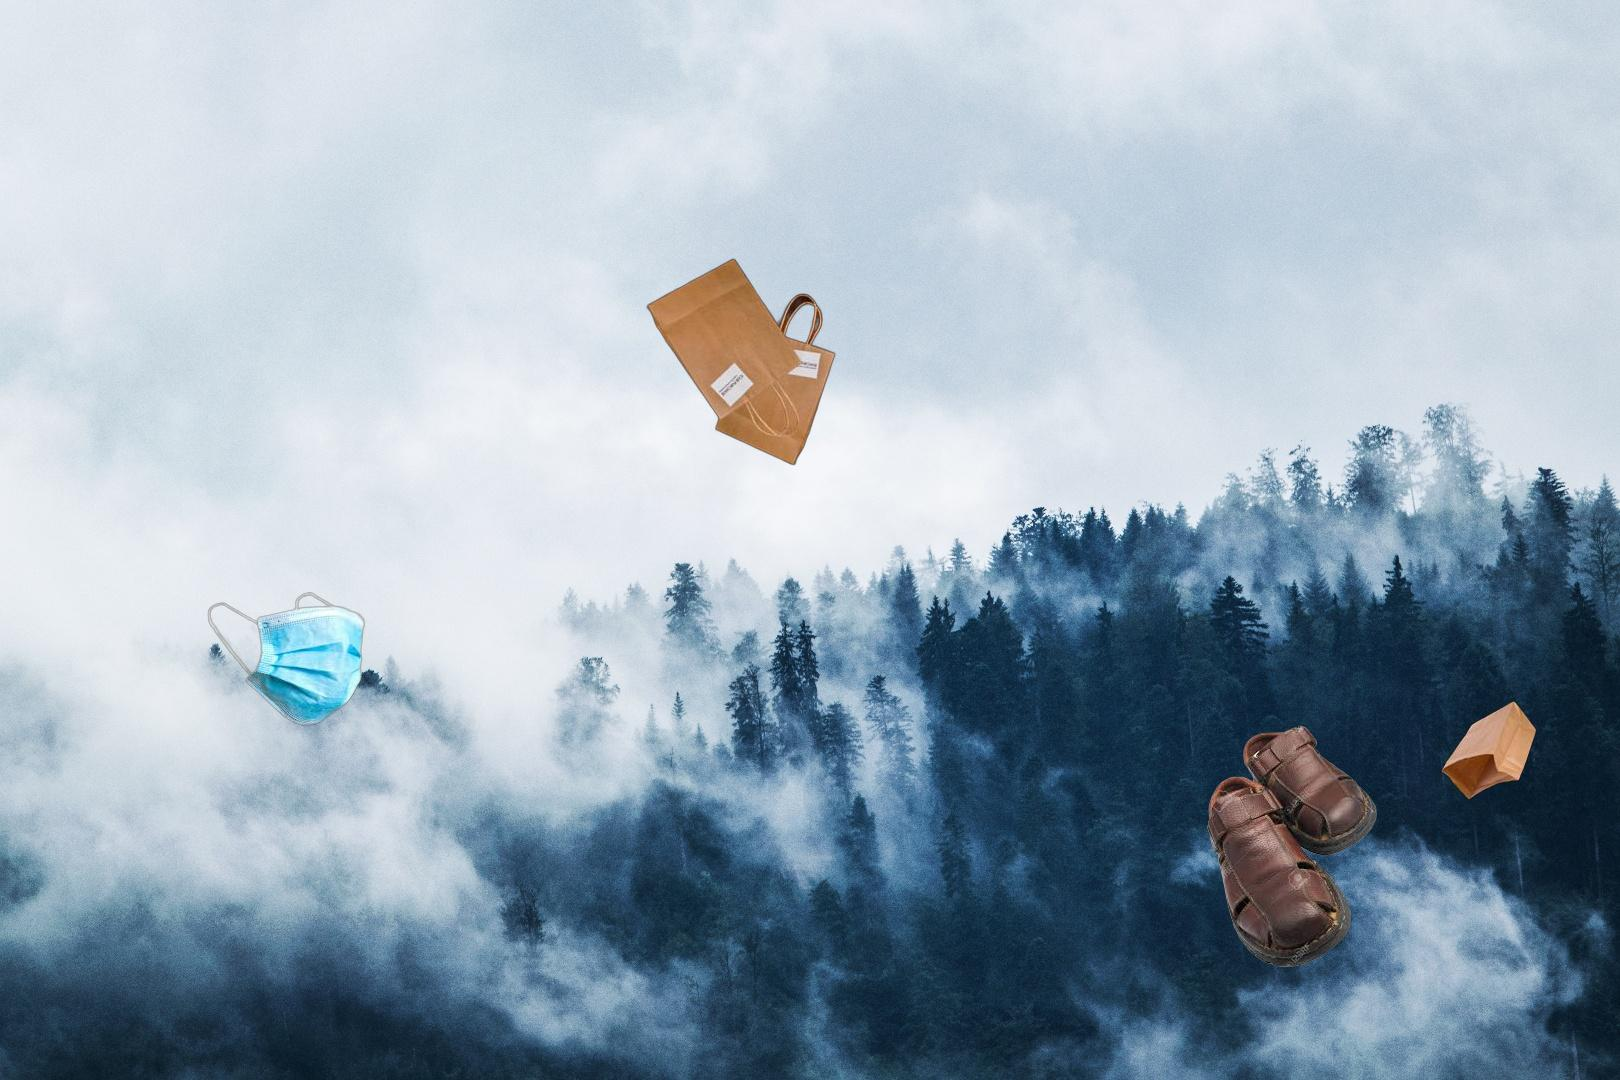paper-bag: (644, 257, 838, 468), (1436, 698, 1539, 803)
shoes: (1204, 724, 1380, 970)
trash: (207, 590, 367, 728)
